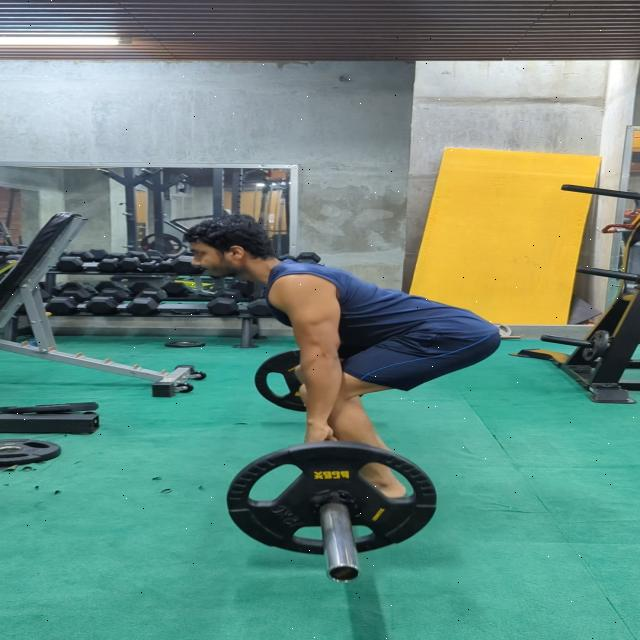Normal_Deadlifts: (185, 216, 505, 502)
